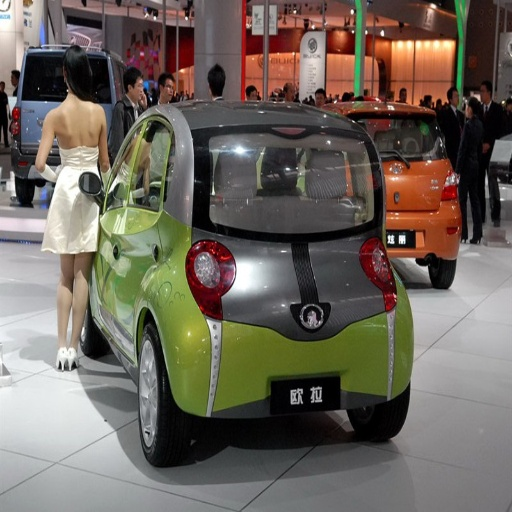back_bumper: (203, 317, 225, 389)
back_glass: (219, 125, 368, 196)
back_left_door: (108, 242, 139, 347)
back_left_light: (186, 242, 234, 319)
tailgate: (277, 163, 374, 240)
trunk: (212, 199, 386, 410), (392, 176, 445, 228)
